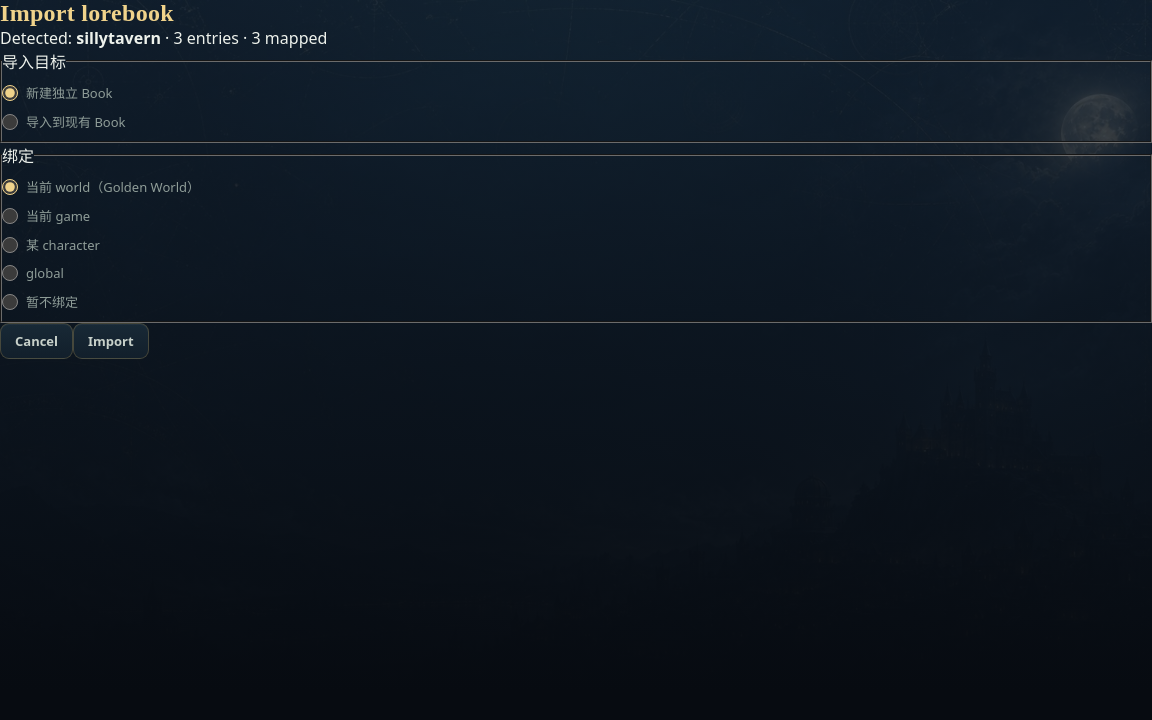
Scenario: LoreImportDialog target selection › never silently targets a book: existing target must be chosen
Step 1. Click the radio button labelled "导入到现有 Book" → (10, 122), box [2, 114, 18, 130]
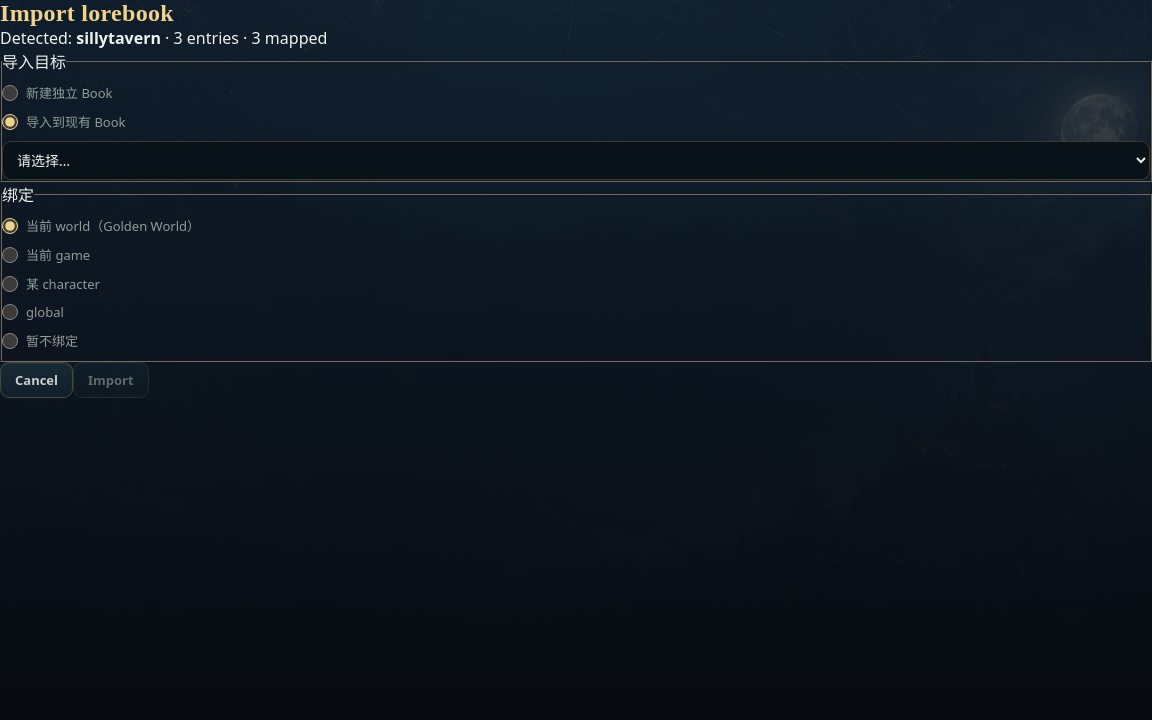
Result: the button "Import" is disabled at [73, 362, 149, 398]
